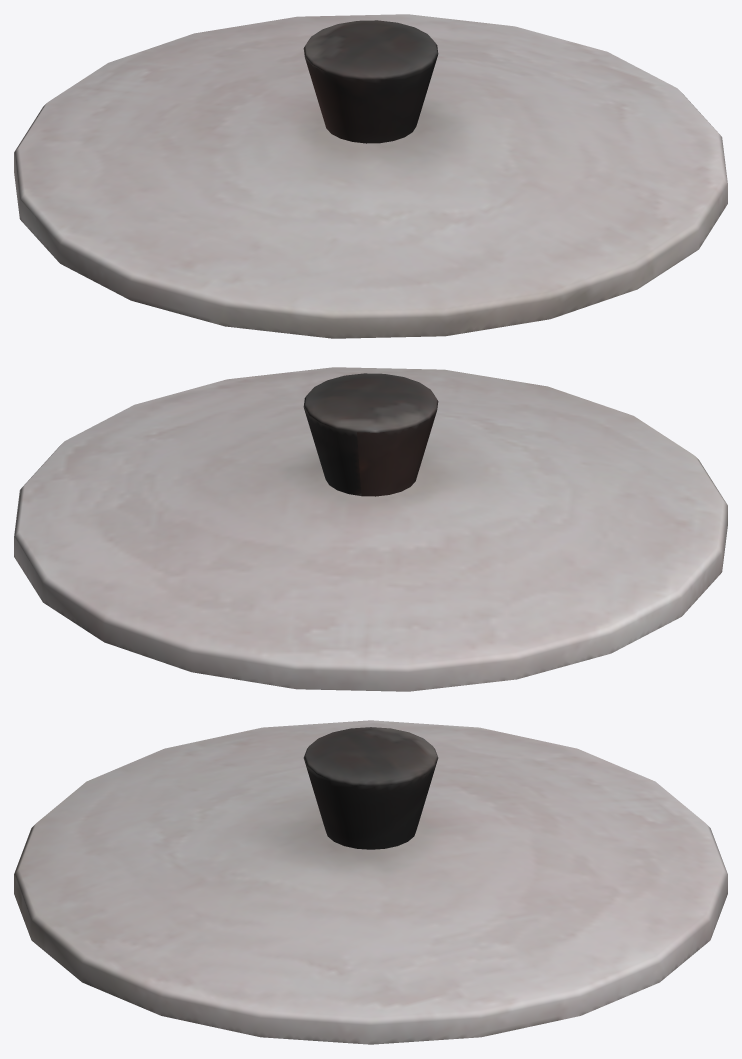
Rendered from SM_SaucePan_Steel_Top_01.fbx.
The picture shows the model from 3 angles, top to bottom: view 1: azimuth 30°, elevation 25°; view 2: azimuth 150°, elevation 25°; view 3: azimuth 270°, elevation 25°; orthographic projection.
Parts seen in each view (by area): view 1: SM_SaucePan_Steel_Top_01_LOD0; view 2: SM_SaucePan_Steel_Top_01_LOD0; view 3: SM_SaucePan_Steel_Top_01_LOD0.
Part boxes in pixels (x1=…): SM_SaucePan_Steel_Top_01_LOD0: x1=14, y1=14, x2=727, y2=338; SM_SaucePan_Steel_Top_01_LOD0: x1=14, y1=367, x2=727, y2=691; SM_SaucePan_Steel_Top_01_LOD0: x1=14, y1=720, x2=727, y2=1044.
Size of the model in its own units: 30.41 by 30.41 by 6.78.
1 material, 1 textured.
